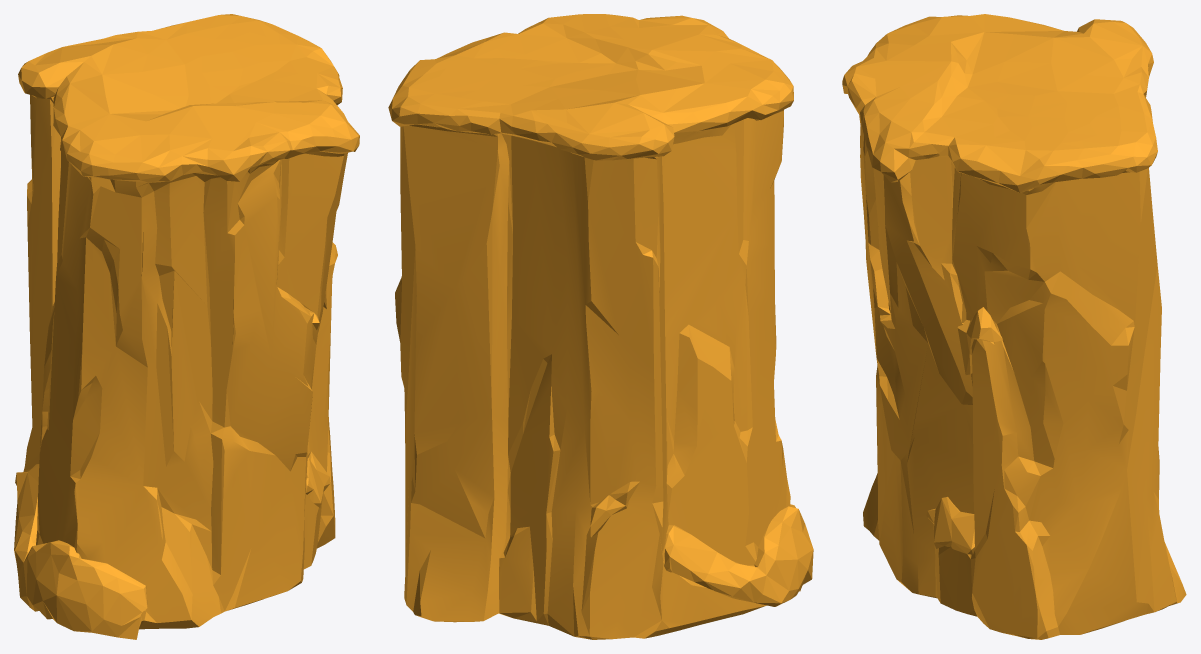
File: SM_Iceberg_Big_A_Snow.fbx
The picture shows the model from 3 angles, left to right: view 1: azimuth 30°, elevation 25°; view 2: azimuth 150°, elevation 25°; view 3: azimuth 270°, elevation 25°; orthographic projection. The views are drawn at different scales.
Visible parts, largest first — view 1: iceberg-big-a-snow; view 2: iceberg-big-a-snow; view 3: iceberg-big-a-snow.
Boxes of the visible parts, x1,y1,x2,y2 form: iceberg-big-a-snow: (14, 14, 359, 639); iceberg-big-a-snow: (388, 14, 813, 639); iceberg-big-a-snow: (842, 14, 1186, 639).
Bounding box in the file's own units: 12.01 × 17.05 × 10.62.
